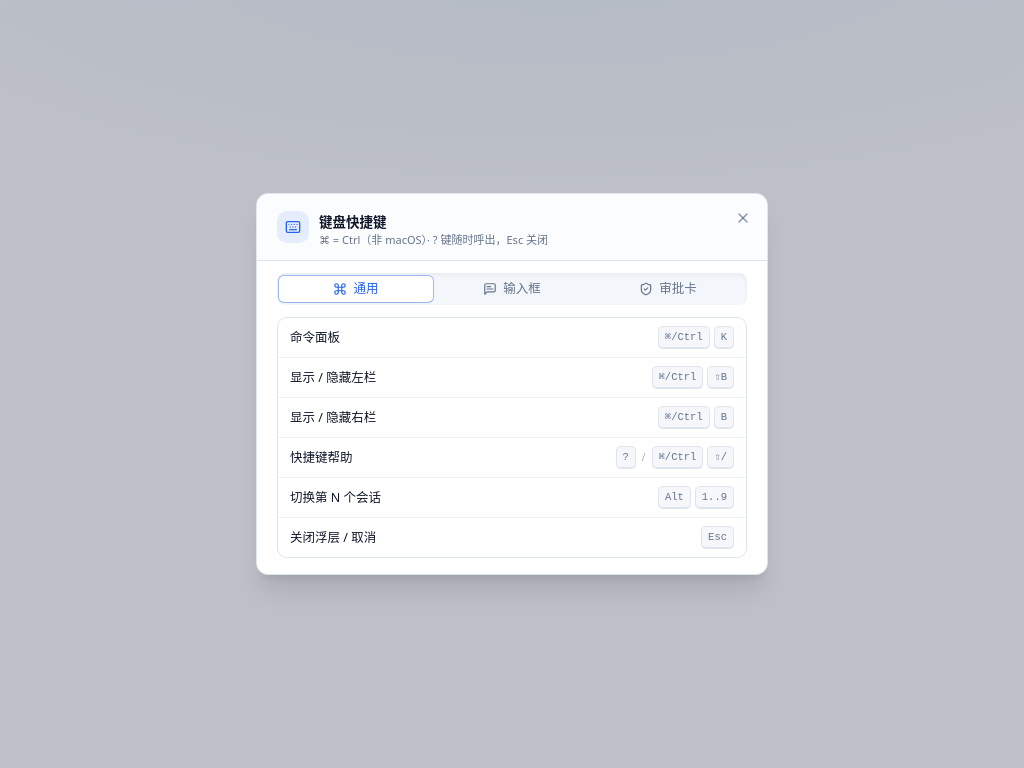
Test: 快捷键帮助（M12 · Tab 分组） › 切到「输入框」页签：候选键与「指派语义」说明出现
The width and height of the screenshot is (1024, 768).
Click the tab "输入框".
click(512, 289)  # box [435,276,589,302]
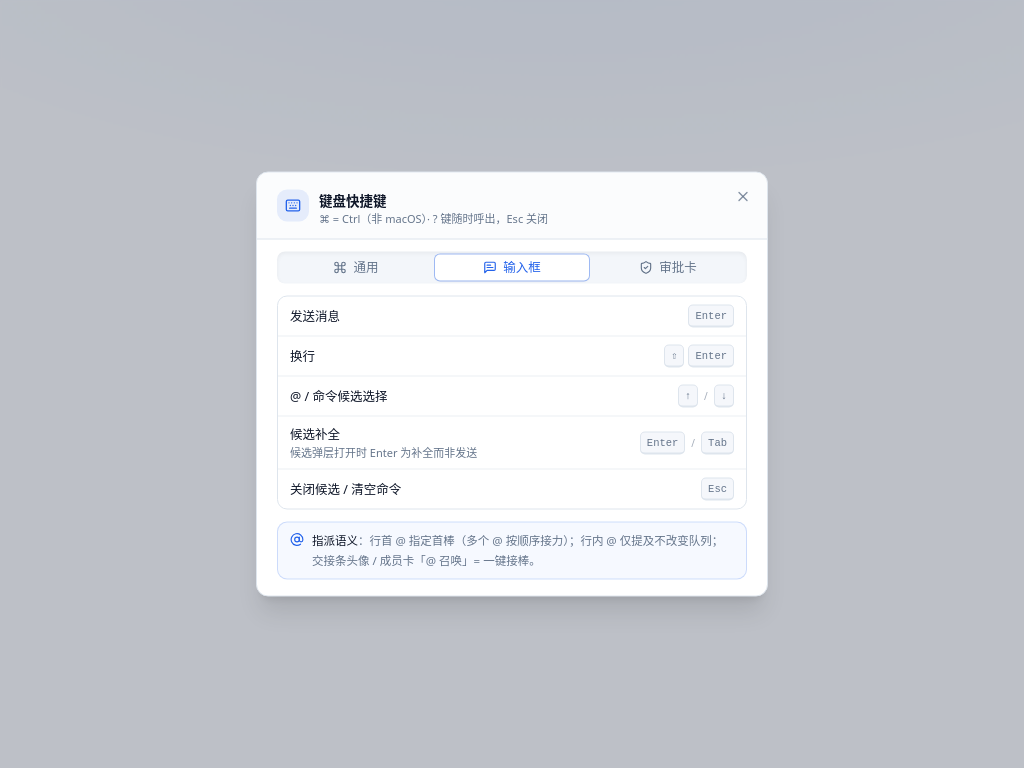
Expected: the text "@ / 命令候选选择" is shown, [290,387,387,404]
Expected: the text "发送消息" is shown, [290,307,340,324]
Expected: the text "指派语义" is shown, [312,532,358,548]
